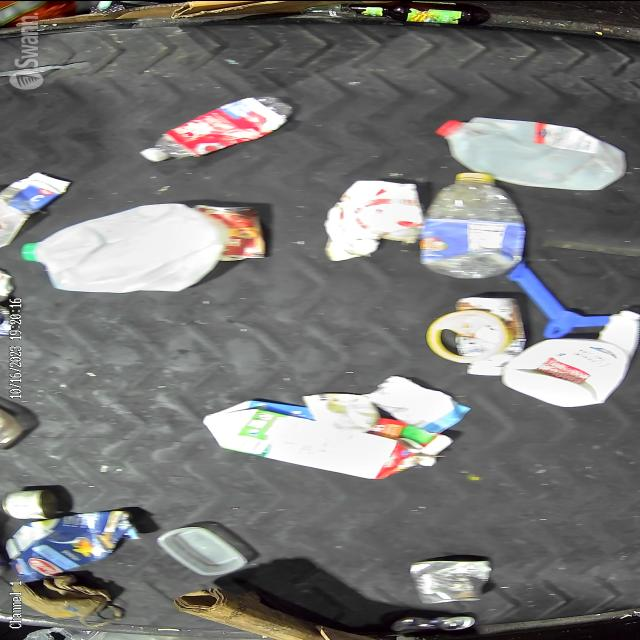can: (191, 202, 265, 262), (410, 554, 496, 604), (0, 487, 64, 519), (389, 612, 478, 630)
milk_jug: (17, 200, 226, 294), (435, 116, 628, 192)
plastic_bottle: (419, 170, 528, 279), (135, 93, 298, 163)
